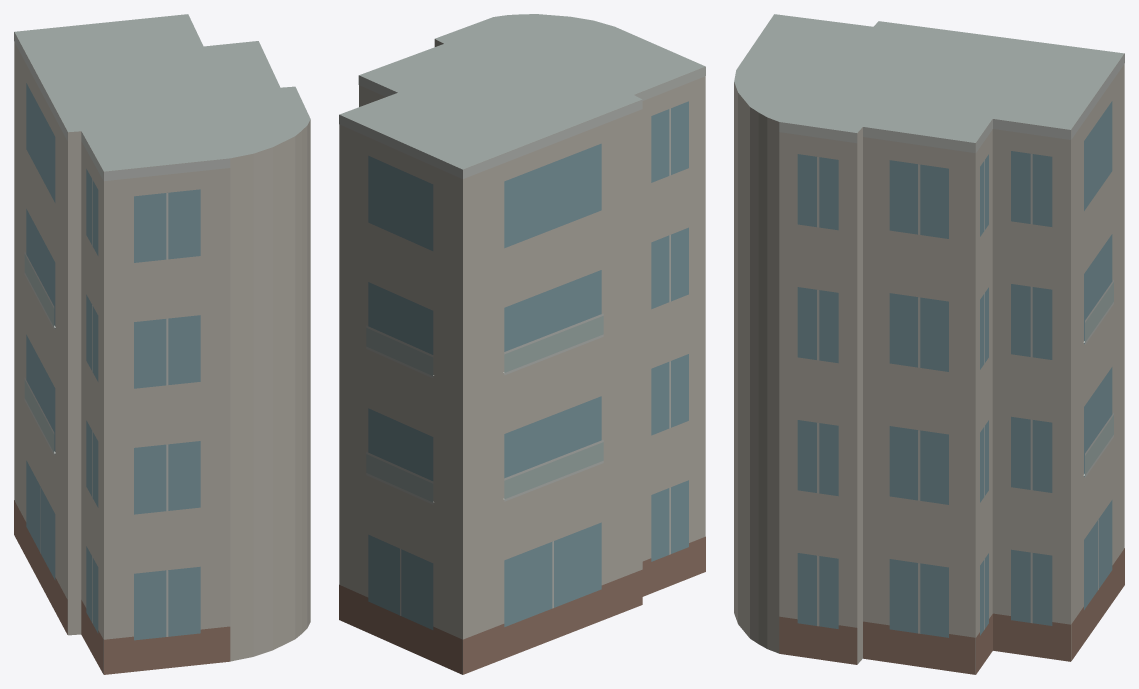
File: survey-upis-32458162.glb
3 views of the same model, side by side, from view 1: azimuth 30°, elevation 25°; view 2: azimuth 150°, elevation 25°; view 3: azimuth 270°, elevation 25° (orthographic). The views are drawn at different scales.
Visible parts, largest first — view 1: survey-upis-32458162.tmp; view 2: survey-upis-32458162.tmp; view 3: survey-upis-32458162.tmp.
Part boxes in pixels (x1=…): survey-upis-32458162.tmp: x1=14, y1=14, x2=310, y2=674; survey-upis-32458162.tmp: x1=339, y1=14, x2=705, y2=674; survey-upis-32458162.tmp: x1=734, y1=14, x2=1124, y2=674.
Size of the model in its own units: 6.67 by 12.8 by 8.52.
